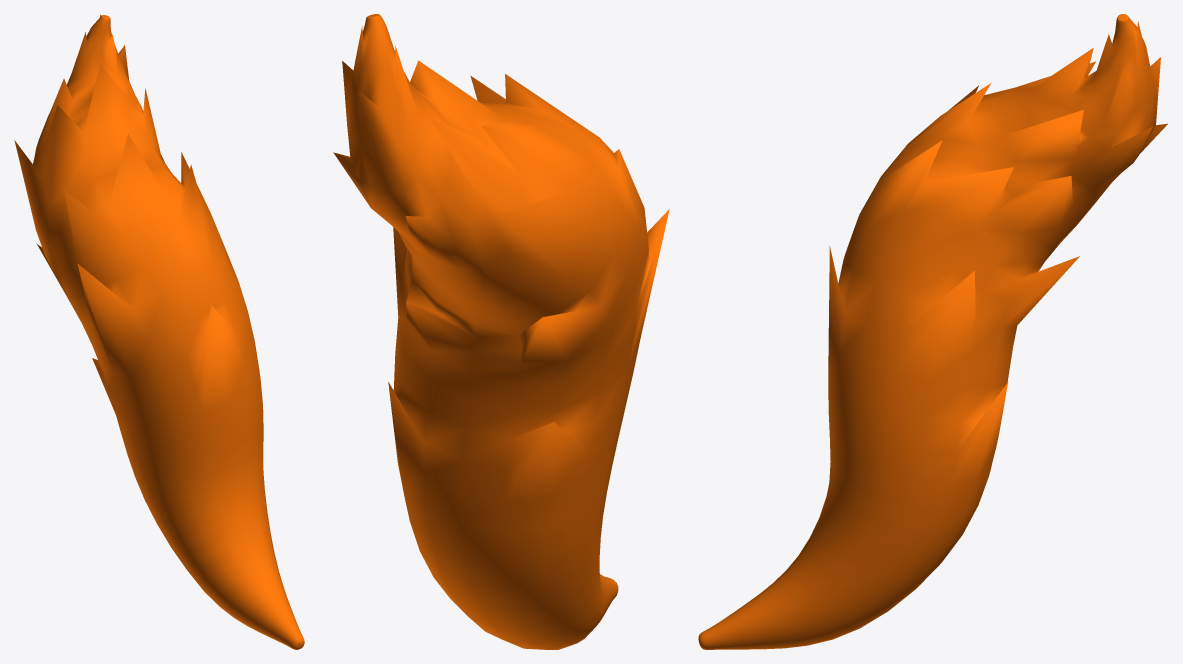
Rendered from Fox_Tail.fbx.
The picture shows the model from 3 angles, left to right: view 1: azimuth 30°, elevation 25°; view 2: azimuth 150°, elevation 25°; view 3: azimuth 270°, elevation 25°; orthographic projection. The views are drawn at different scales.
Parts seen in each view (by area): view 1: Tilkı_Kuyruk_Melee; view 2: Tilkı_Kuyruk_Melee; view 3: Tilkı_Kuyruk_Melee.
Boxes of the visible parts, left/top/right/bottom form: Tilkı_Kuyruk_Melee: left=14, top=14, right=304, bottom=649; Tilkı_Kuyruk_Melee: left=333, top=14, right=669, bottom=649; Tilkı_Kuyruk_Melee: left=698, top=14, right=1167, bottom=649.
Size of the model in its own units: 77.44 by 220 by 151.
